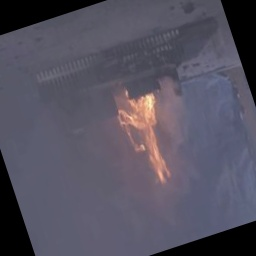fire: (111, 81, 186, 197)
